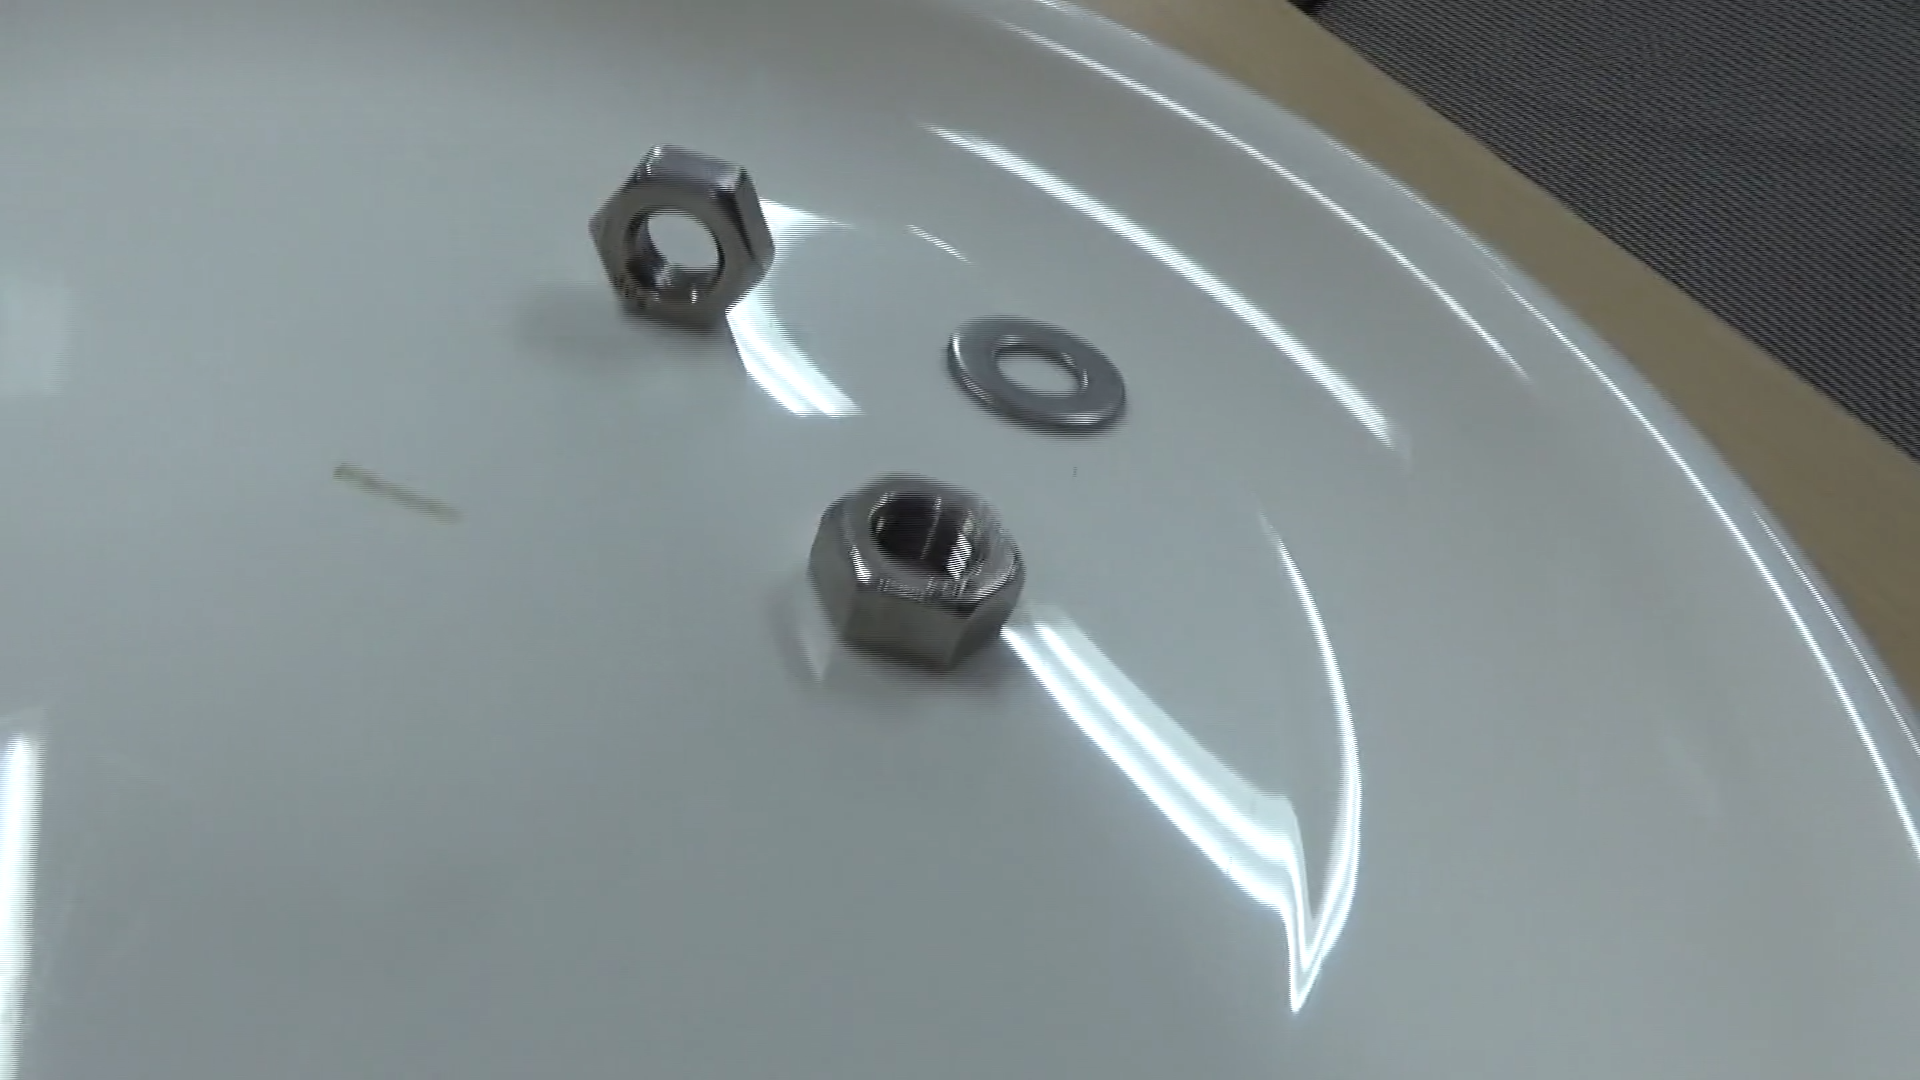nut: (796, 451, 1048, 684), (572, 131, 789, 342)
washer: (930, 273, 1145, 464)
